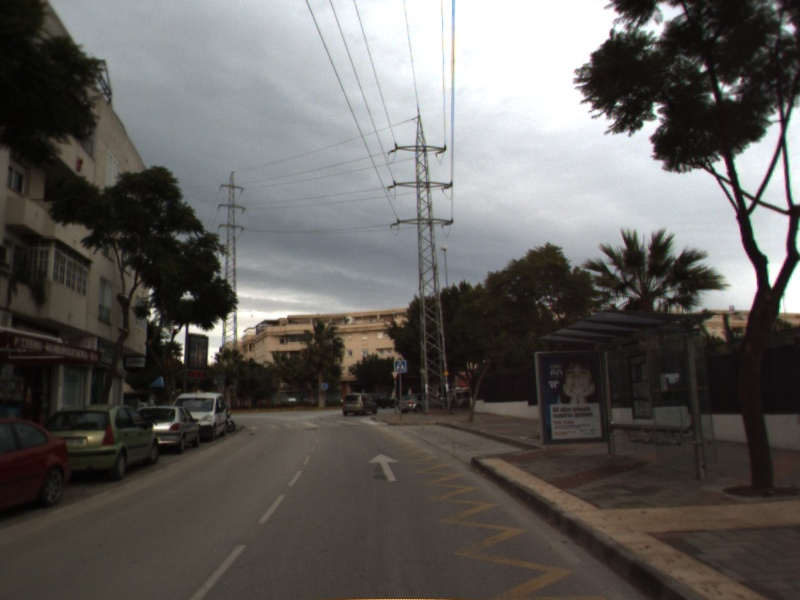STRAIGHT: (366, 451, 402, 483)
